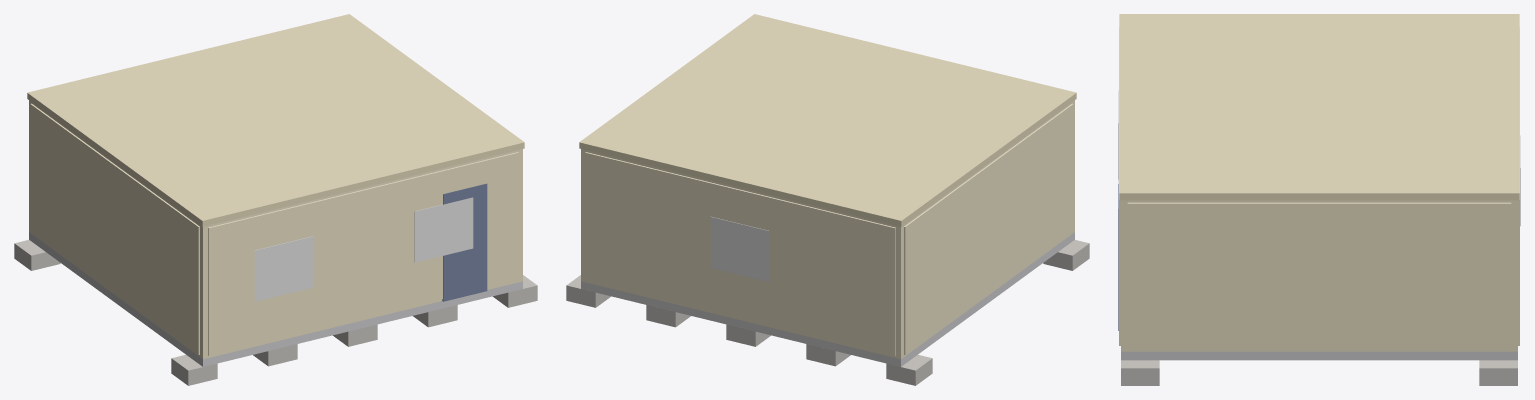
Rendered from Studio-20-Base-RiceYellow-LOD0.glb.
3 renders of one model, left to right at view 1: azimuth 30°, elevation 25°; view 2: azimuth 150°, elevation 25°; view 3: azimuth 270°, elevation 25°, orthographic. The views are drawn at different scales.
Parts seen in each view (by area): view 1: RoofMain, ExteriorPanelsStandard, WindowsStandard, FoundationBlocks, BaseFrame, ExteriorShell, EntryDoor; view 2: ExteriorPanelsStandard, RoofMain, FoundationBlocks, BaseFrame, ExteriorShell, WindowsStandard; view 3: RoofMain, ExteriorPanelsStandard, ExteriorShell, BaseFrame, FoundationBlocks.
Part boxes in pixels (<box>): RoofMain: <box>27,14,524,226</box>; ExteriorPanelsStandard: <box>30,103,518,355</box>; WindowsStandard: <box>254,197,473,301</box>; FoundationBlocks: <box>14,240,537,385</box>; BaseFrame: <box>29,232,522,366</box>; ExteriorShell: <box>29,100,522,359</box>; EntryDoor: <box>442,183,487,301</box>; ExteriorPanelsStandard: <box>585,103,1073,355</box>; RoofMain: <box>579,14,1076,226</box>; FoundationBlocks: <box>566,240,1089,385</box>; BaseFrame: <box>581,232,1074,366</box>; ExteriorShell: <box>581,100,1074,359</box>; WindowsStandard: <box>710,216,769,281</box>; RoofMain: <box>1119,14,1519,200</box>; ExteriorPanelsStandard: <box>1119,27,1519,349</box>; ExteriorShell: <box>1121,200,1517,351</box>; BaseFrame: <box>1121,351,1517,360</box>; FoundationBlocks: <box>1121,360,1517,385</box>.
Size of the model in its own units: 7.14 by 3.17 by 6.24.
